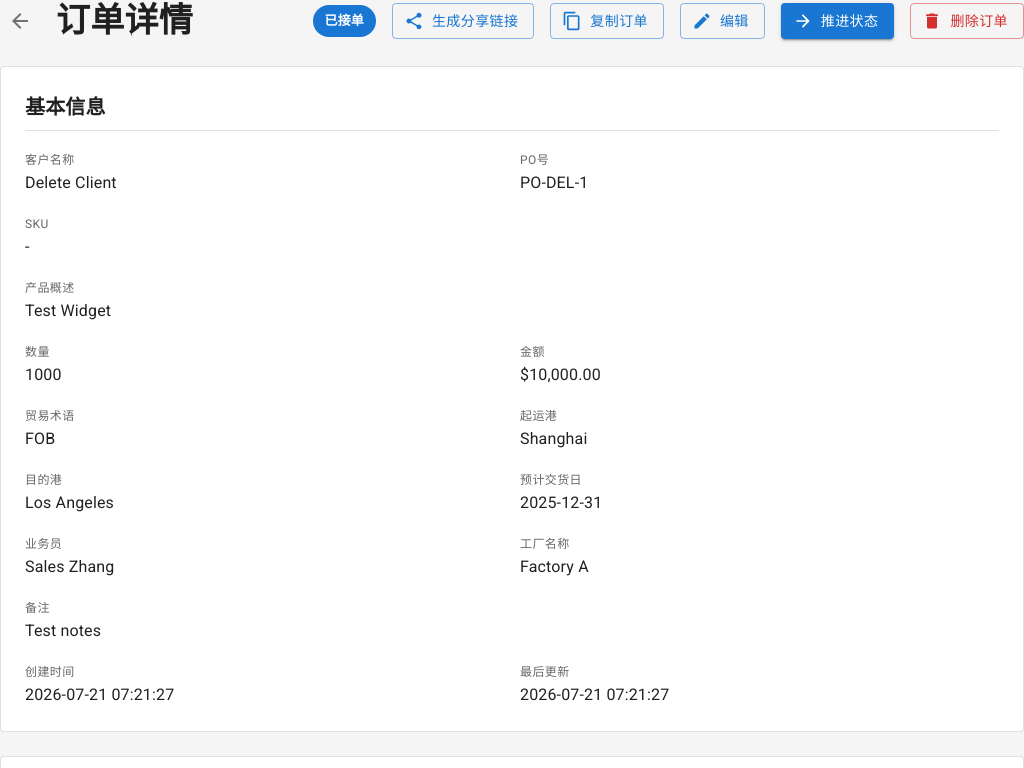
Test: OrderDetail — 删除 Dialog 按钮行为 › 点击"取消"按钮关闭 Dialog，不删除订单
Click the button "删除订单": click(967, 21) [910,3,1023,39]
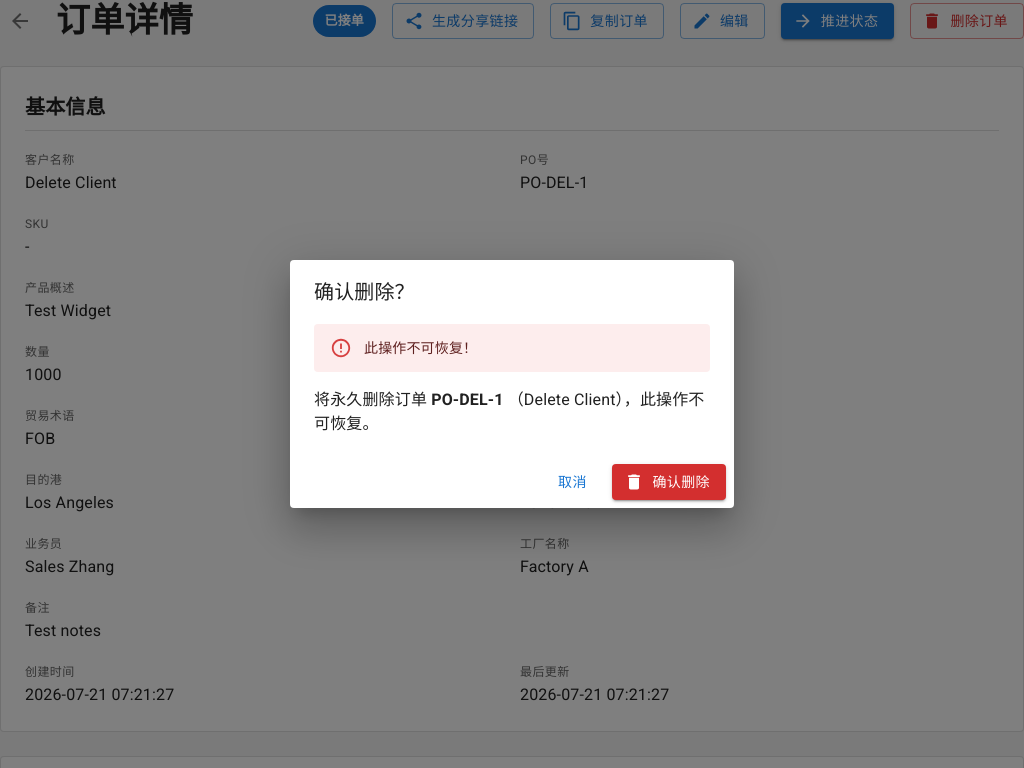
Click the button "取消": click(572, 482) [540,464,604,500]
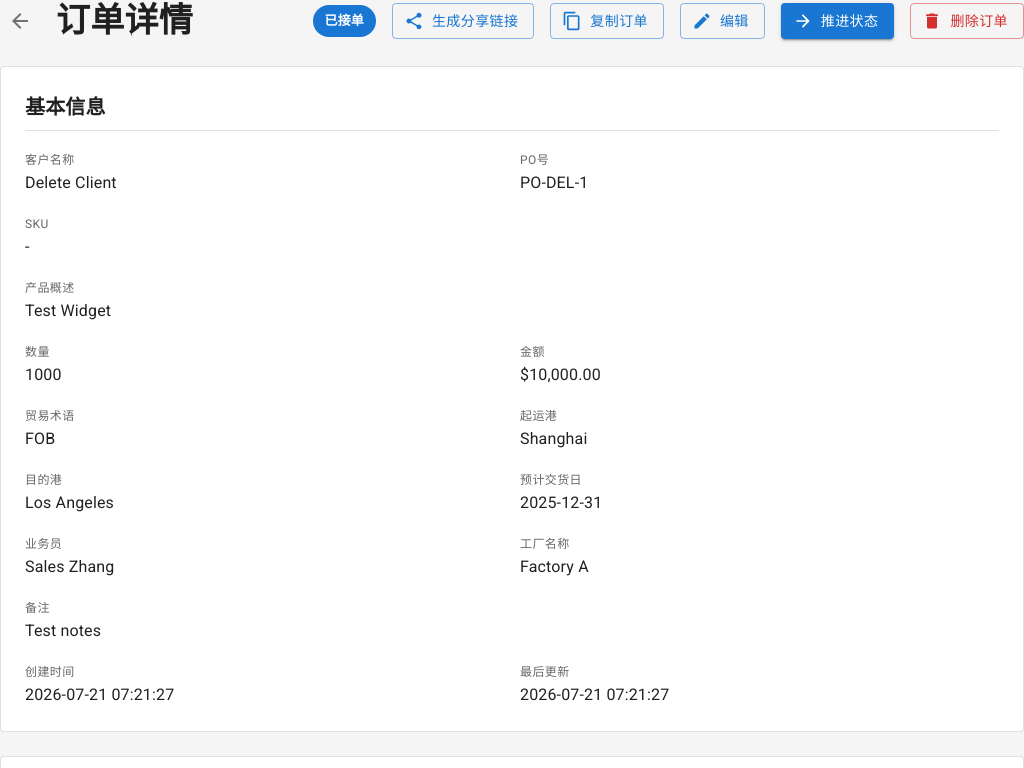
Expected: the text "PO-DEL-1" is shown, [520,173,588,192]
Expected: the heading "确认删除？" is gone
